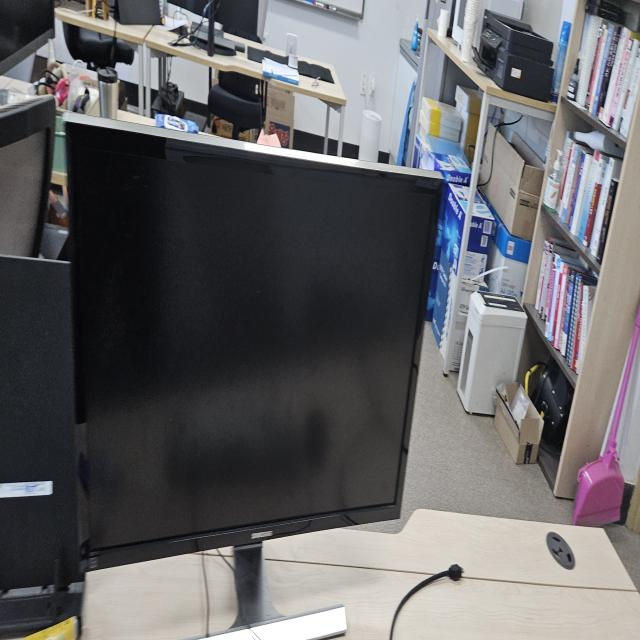Monitor: (61, 103, 444, 628)
